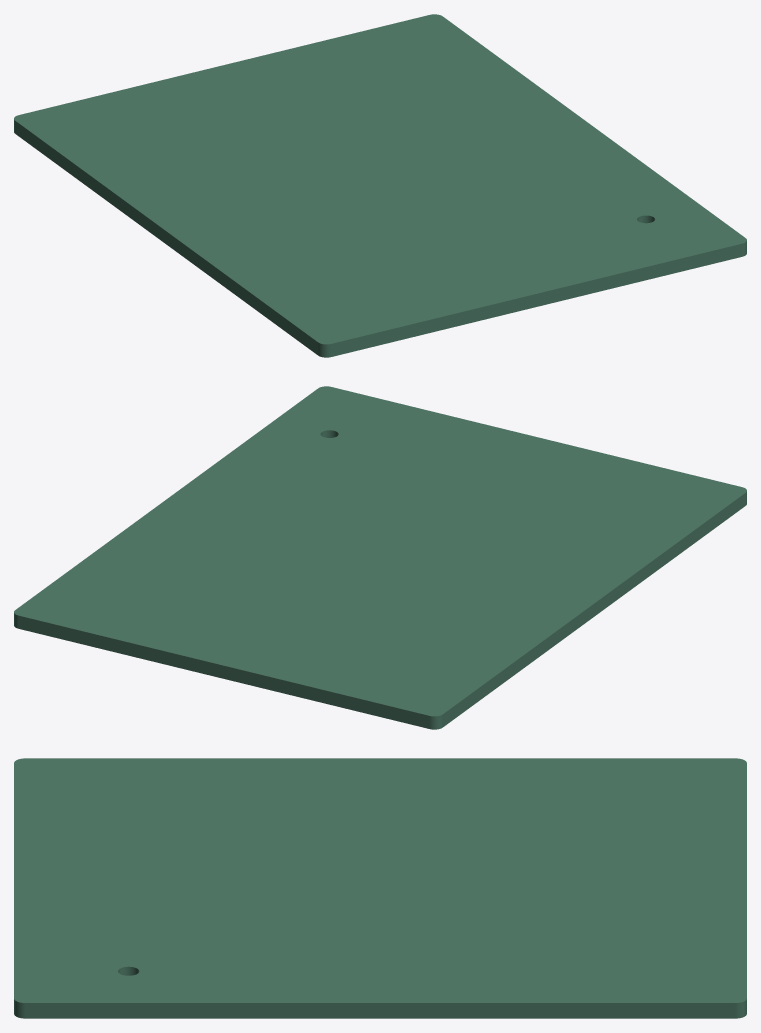
The model's file is board-only.glb.
3 views of the same model, one above another, from view 1: azimuth 30°, elevation 25°; view 2: azimuth 150°, elevation 25°; view 3: azimuth 270°, elevation 25° (orthographic). The views are drawn at different scales.
Visible parts, largest first — view 1: =>[0:1:1:2]; view 2: =>[0:1:1:2]; view 3: =>[0:1:1:2].
Part boxes in pixels (left/top/right/bottom): =>[0:1:1:2]: left=14, top=14, right=746, bottom=357; =>[0:1:1:2]: left=14, top=386, right=746, bottom=729; =>[0:1:1:2]: left=14, top=758, right=746, bottom=1018.
Bounding box in the file's own units: 0.0513 × 0.00152 × 0.0649.
